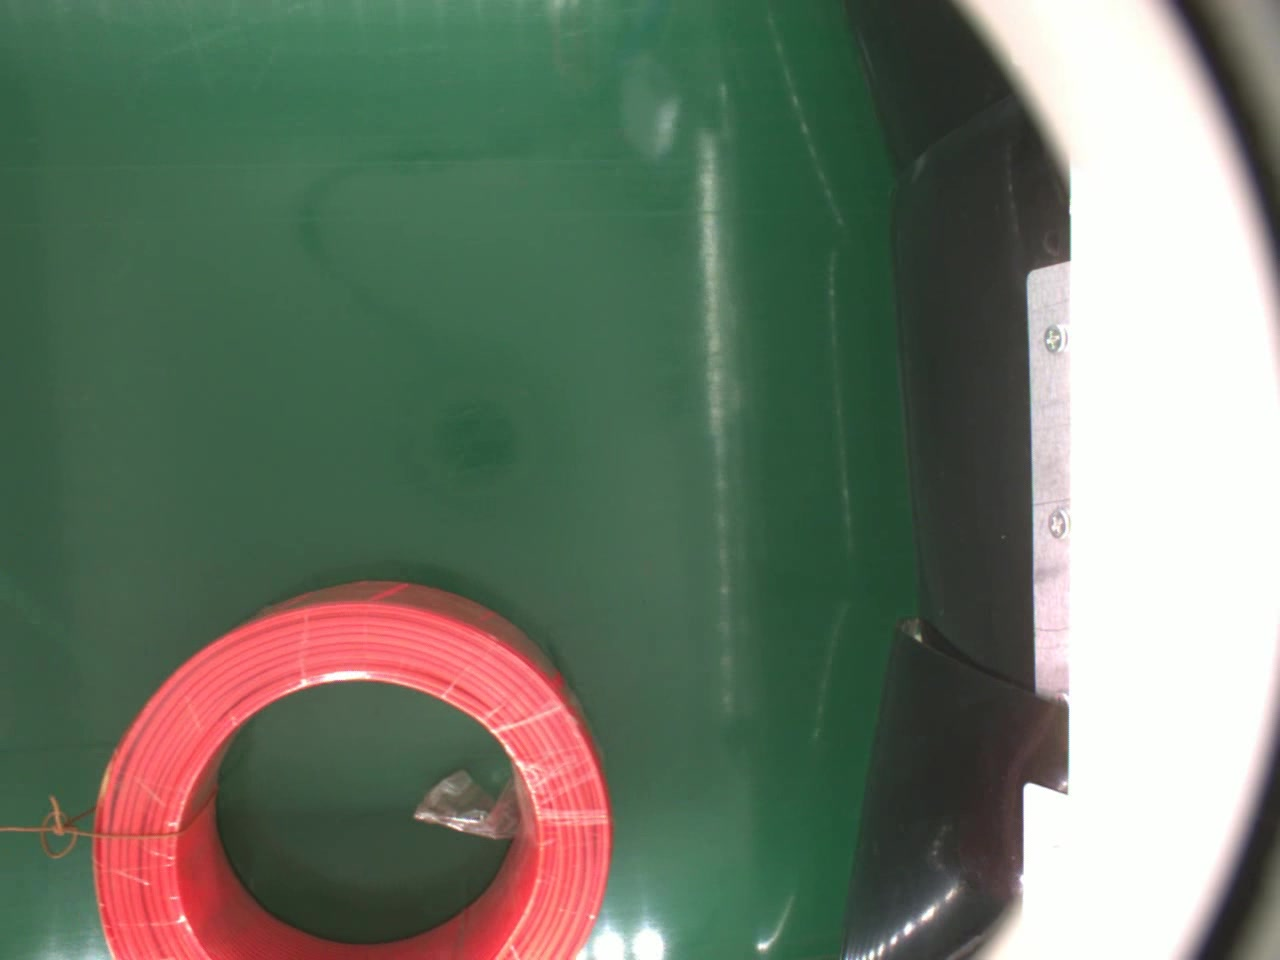red: (94, 577, 612, 960)
